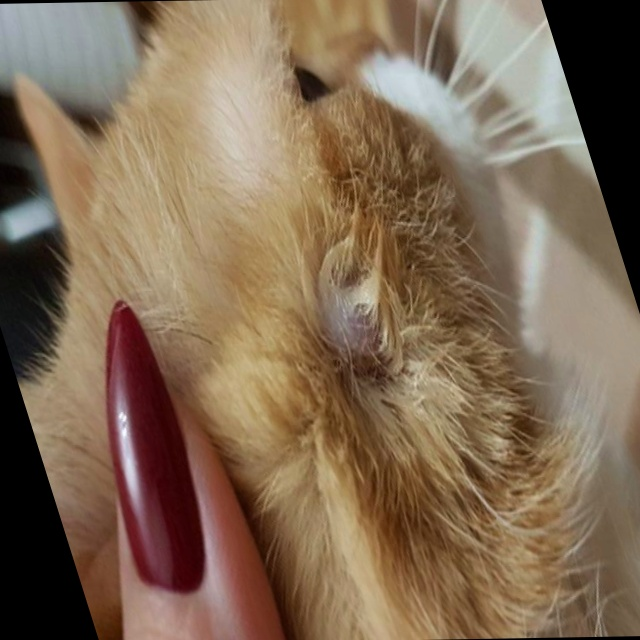lump_and_bump: (312, 276, 388, 345)
